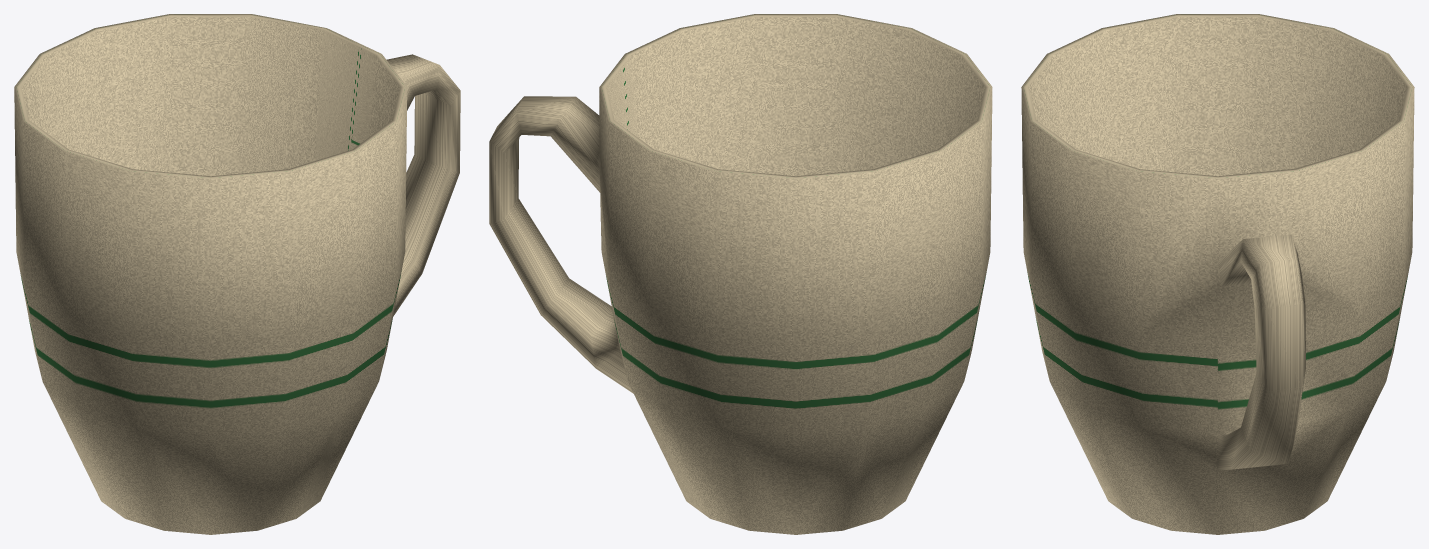
Rendered from coffee_cup.fbx.
3 views of the same model, side by side, from view 1: azimuth 30°, elevation 25°; view 2: azimuth 150°, elevation 25°; view 3: azimuth 270°, elevation 25° (orthographic).
Visible parts, largest first — view 1: cup; view 2: cup; view 3: cup.
Boxes of the visible parts, x1,y1,x2,y2 form: cup: (14,14,460,534); cup: (489,14,992,534); cup: (1021,14,1414,534).
Bounding box in the file's own units: 30.88 × 26.13 × 23.8.
1 material, 1 textured.
